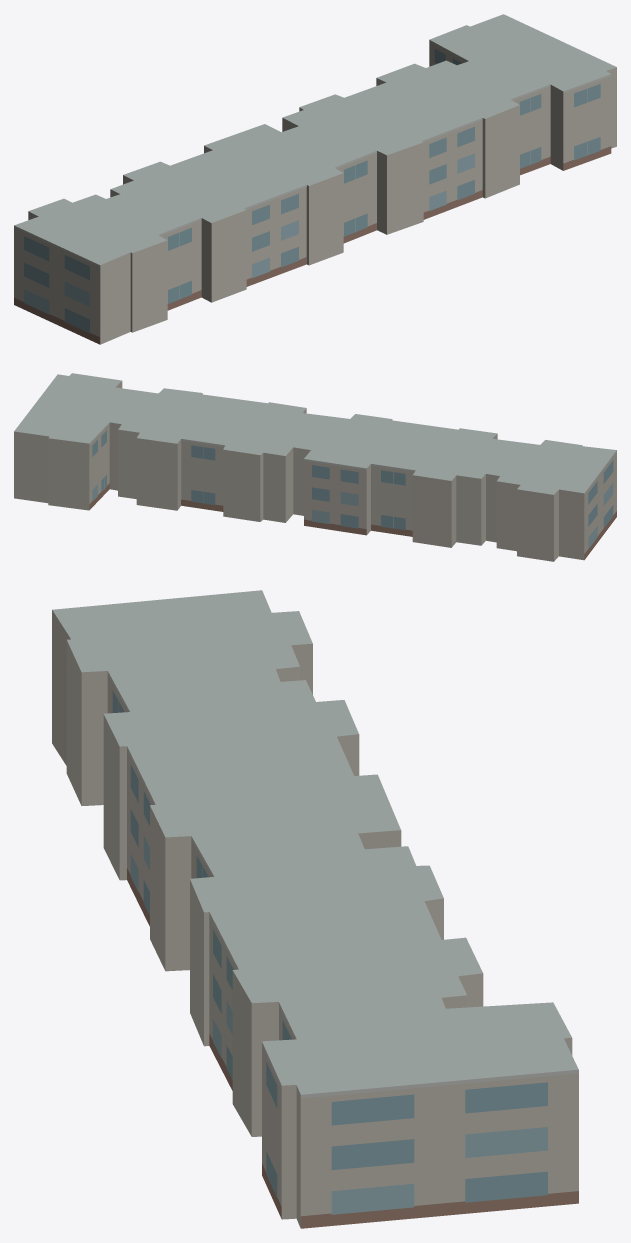
The model's file is survey-upis-32945532.glb.
The picture shows the model from 3 angles, top to bottom: view 1: azimuth 30°, elevation 25°; view 2: azimuth 150°, elevation 25°; view 3: azimuth 270°, elevation 25°; orthographic projection. The views are drawn at different scales.
Parts seen in each view (by area): view 1: survey-upis-32945532.tmp; view 2: survey-upis-32945532.tmp; view 3: survey-upis-32945532.tmp.
Part boxes in pixels (bbox=[...]): survey-upis-32945532.tmp: bbox=[14, 14, 616, 344]; survey-upis-32945532.tmp: bbox=[14, 373, 616, 561]; survey-upis-32945532.tmp: bbox=[52, 590, 578, 1228].
Size of the model in its own units: 73.97 by 9.15 by 32.62.
